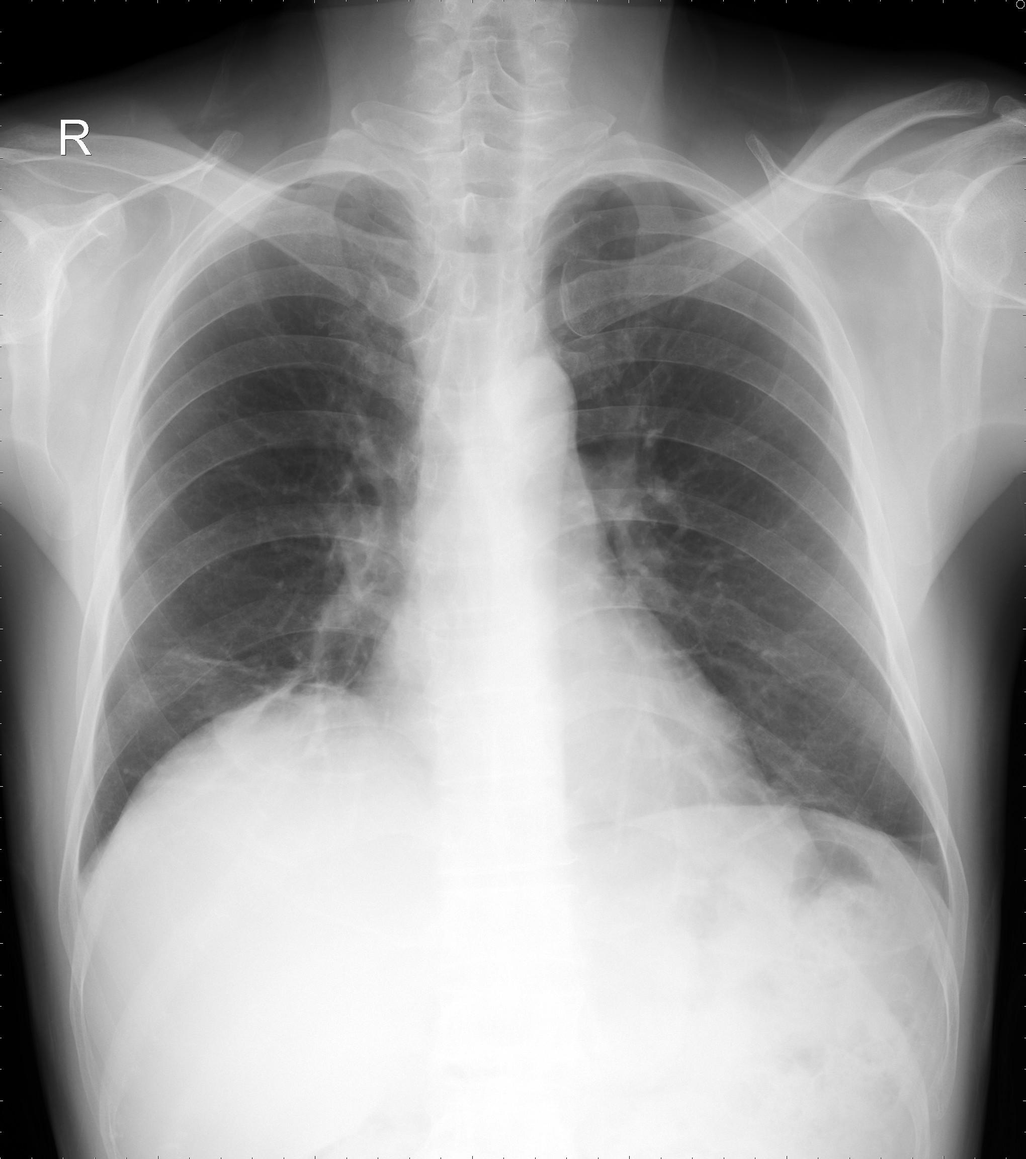Pulmonary fibrosis: (167, 641, 352, 762)
